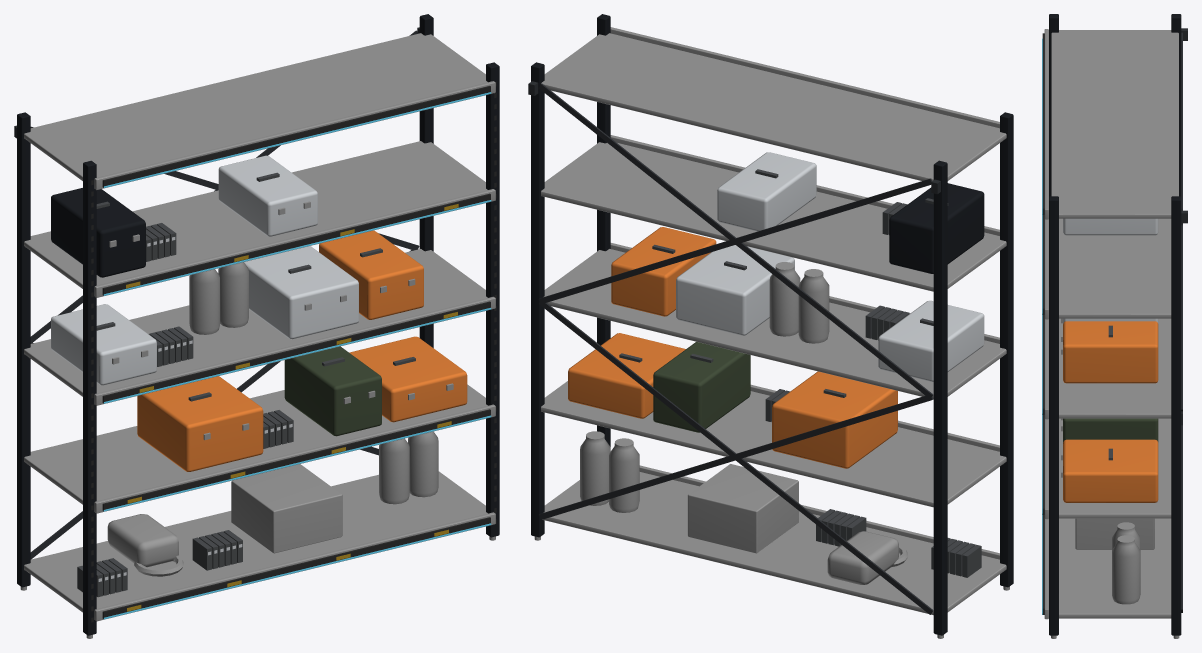
The model's file is Shelving_Unit.fbx.
The picture shows the model from 3 angles, left to right: view 1: azimuth 30°, elevation 25°; view 2: azimuth 150°, elevation 25°; view 3: azimuth 270°, elevation 25°; orthographic projection. The views are drawn at different scales.
Parts seen in each view (by area): view 1: Shelving_Unit_LOD0; view 2: Shelving_Unit_LOD0; view 3: Shelving_Unit_LOD0.
Boxes of the visible parts, box(x1,y1,x2,y2) form: Shelving_Unit_LOD0: box(14, 14, 499, 638); Shelving_Unit_LOD0: box(528, 14, 1013, 638); Shelving_Unit_LOD0: box(1042, 14, 1187, 638).
Size of what is drawn, in the model's own units: 2 by 2.2 by 0.6615.
